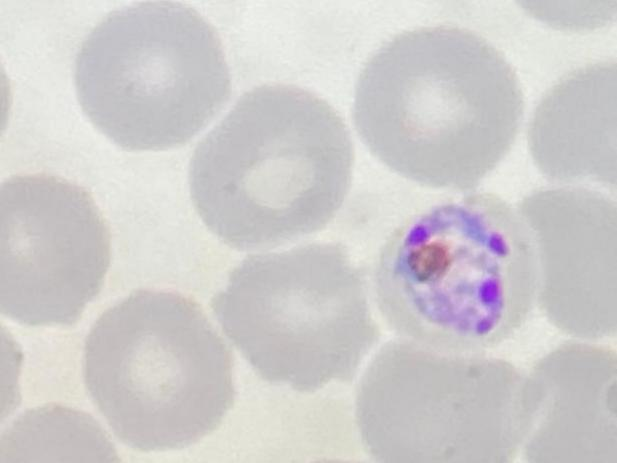Infected: (374, 196, 537, 354)
Uninfected: (354, 25, 525, 184), (191, 84, 354, 249), (82, 286, 235, 451), (214, 240, 372, 390), (75, 1, 229, 150), (355, 343, 528, 463), (0, 173, 110, 324), (519, 186, 616, 337), (516, 342, 617, 461), (528, 59, 615, 190)
